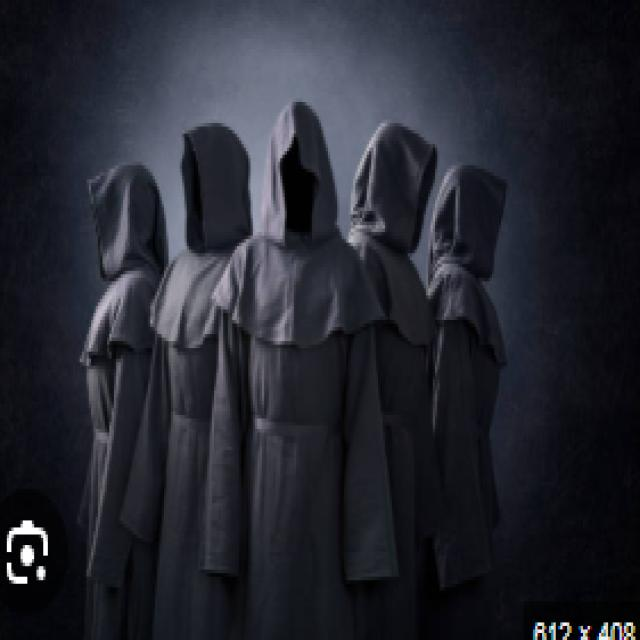4_capucha: (84, 162, 168, 279)
